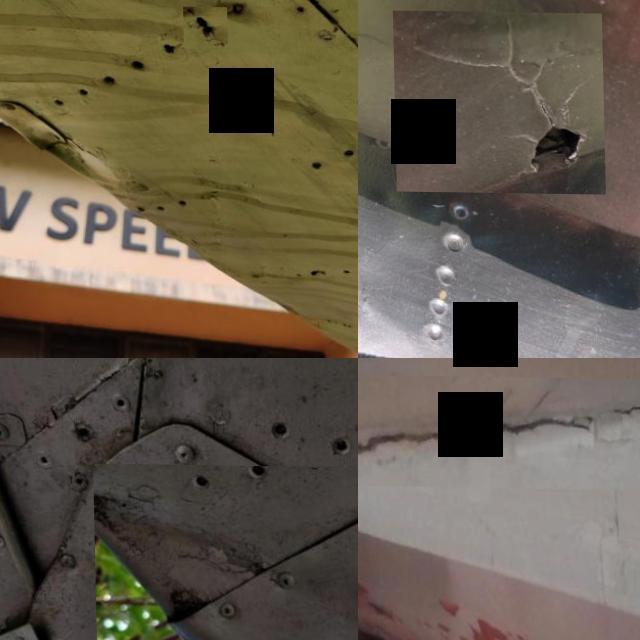Crack: (392, 10, 604, 193), (358, 400, 640, 459), (182, 6, 226, 49)
Dent: (91, 463, 358, 640)
